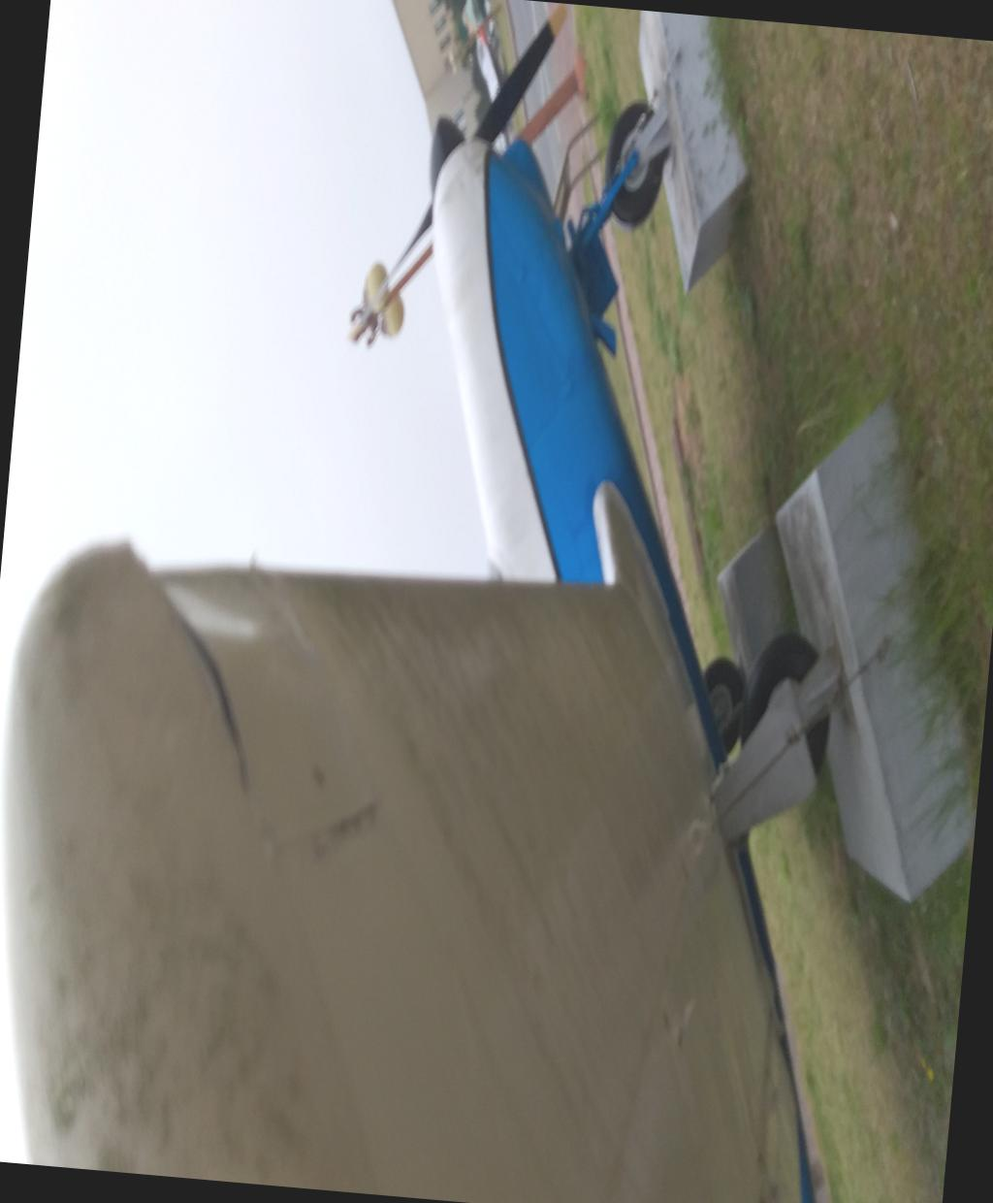dent: (262, 556, 335, 802)
